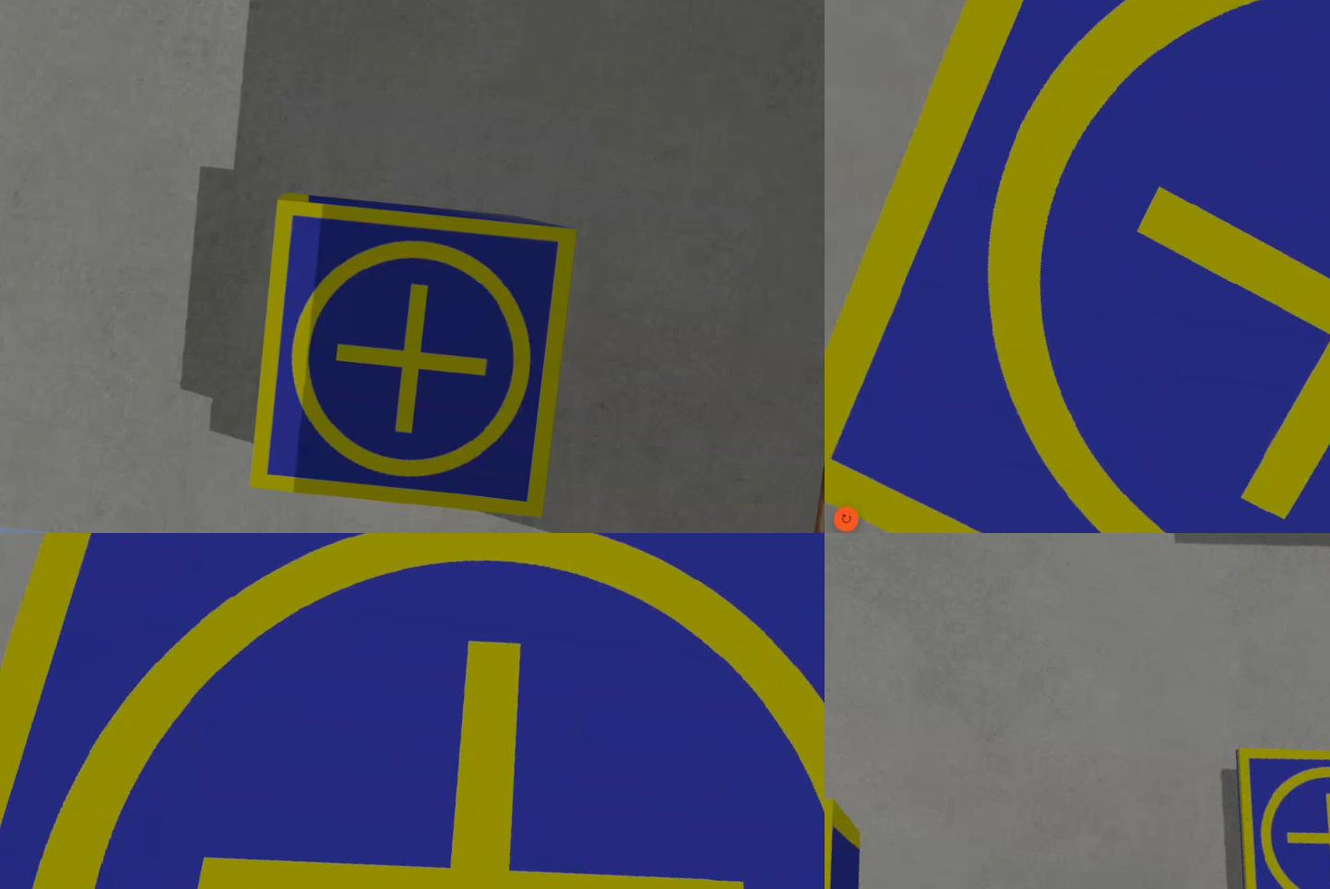small_base: (1, 534, 825, 889), (825, 1, 1330, 534), (244, 196, 580, 526), (1213, 729, 1330, 889)
